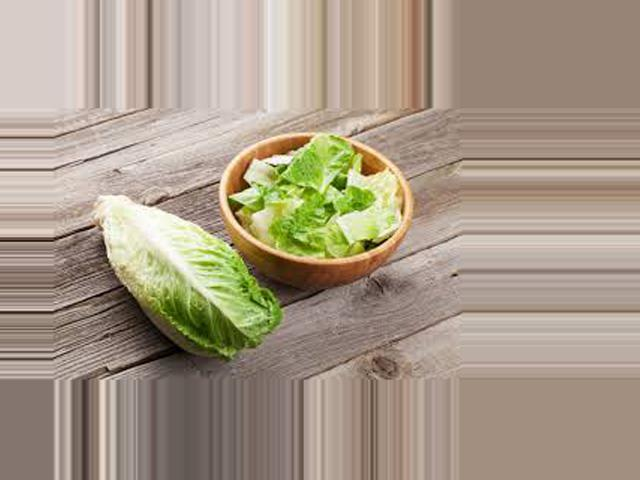lettuce: (98, 192, 278, 362)
